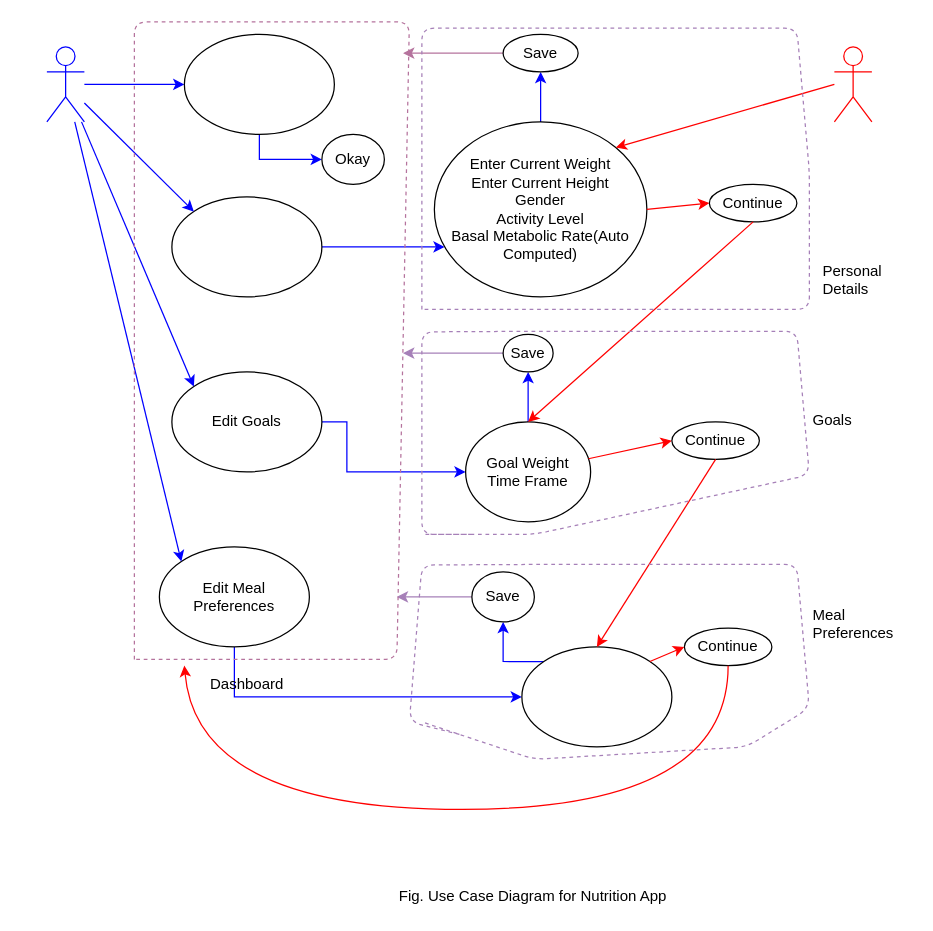
The diagram is 933 pixels wide and 931 high, and some of its shapes have lost their labels. The shapes that lost their labels are listed below. From the top down, each one's centre as x and y in pixels, then its label:
At [65,84]: "Existing User".
At [258,83]: "Check Summary of his statistics".
At [852,84]: "New User".
At [246,246]: "Edit Personal Details".
At [596,696]: "Ingredient 1: Ingredient 2: Meals Per Day:".
